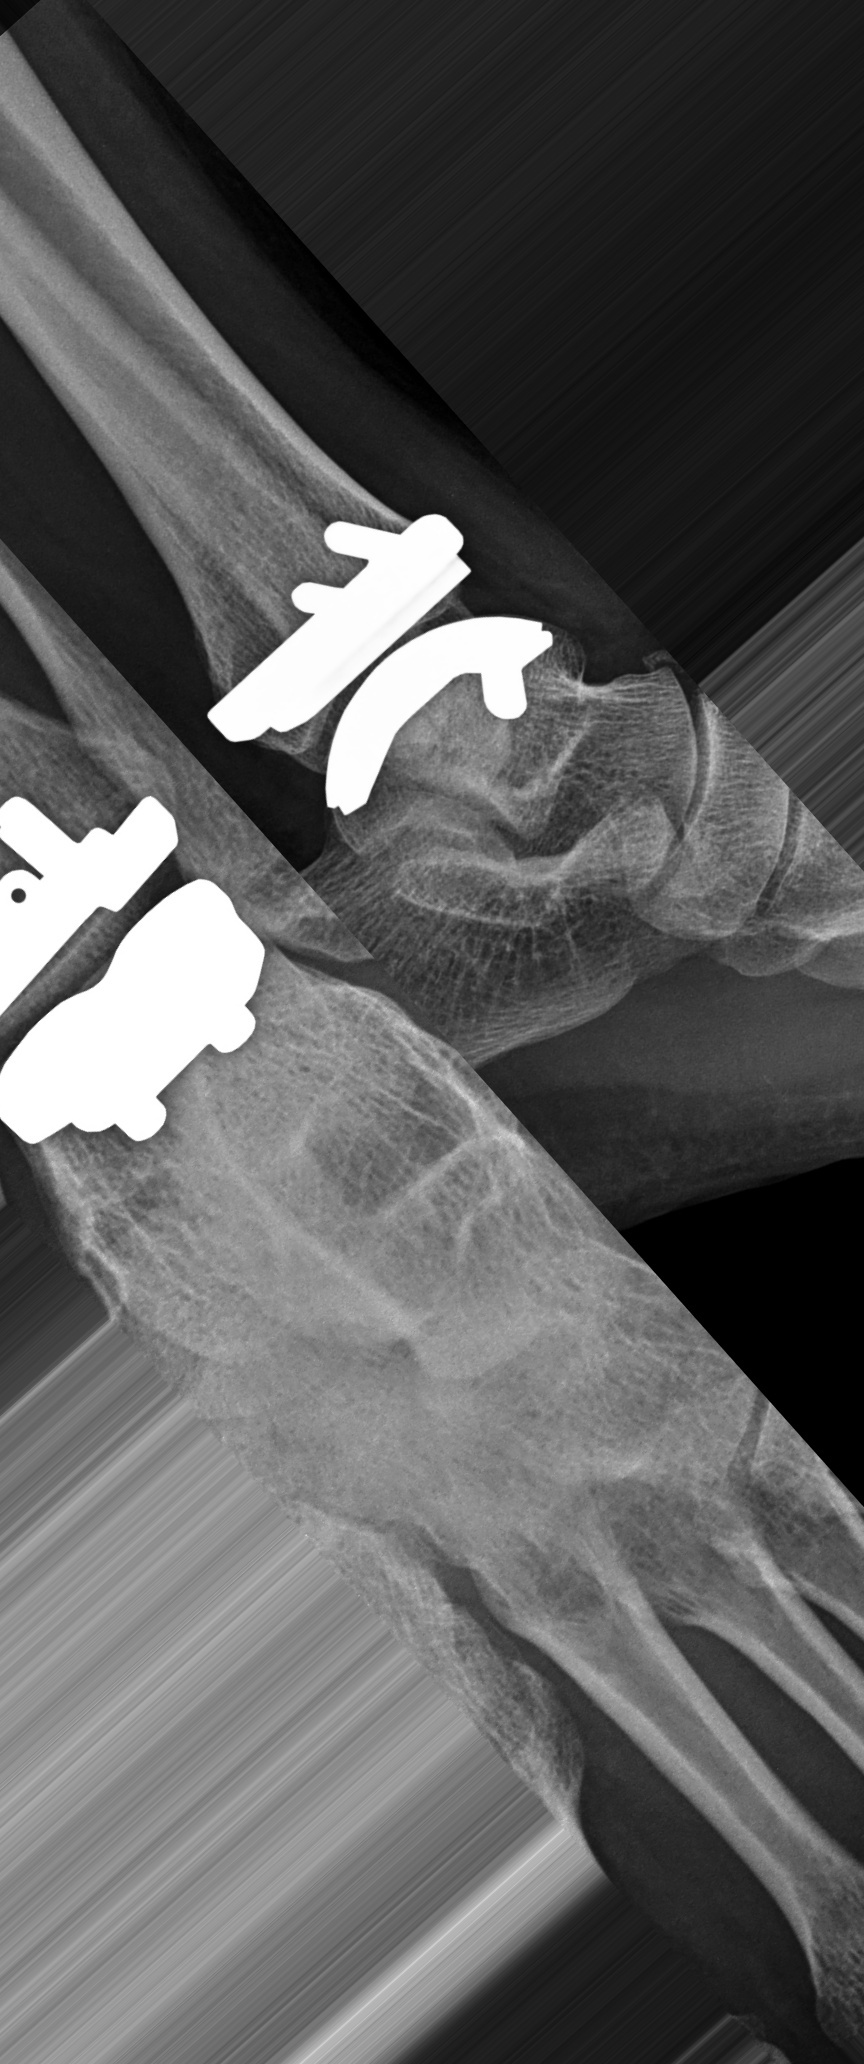Cadence-Integra: (3, 769, 286, 1198), (196, 492, 560, 823)
